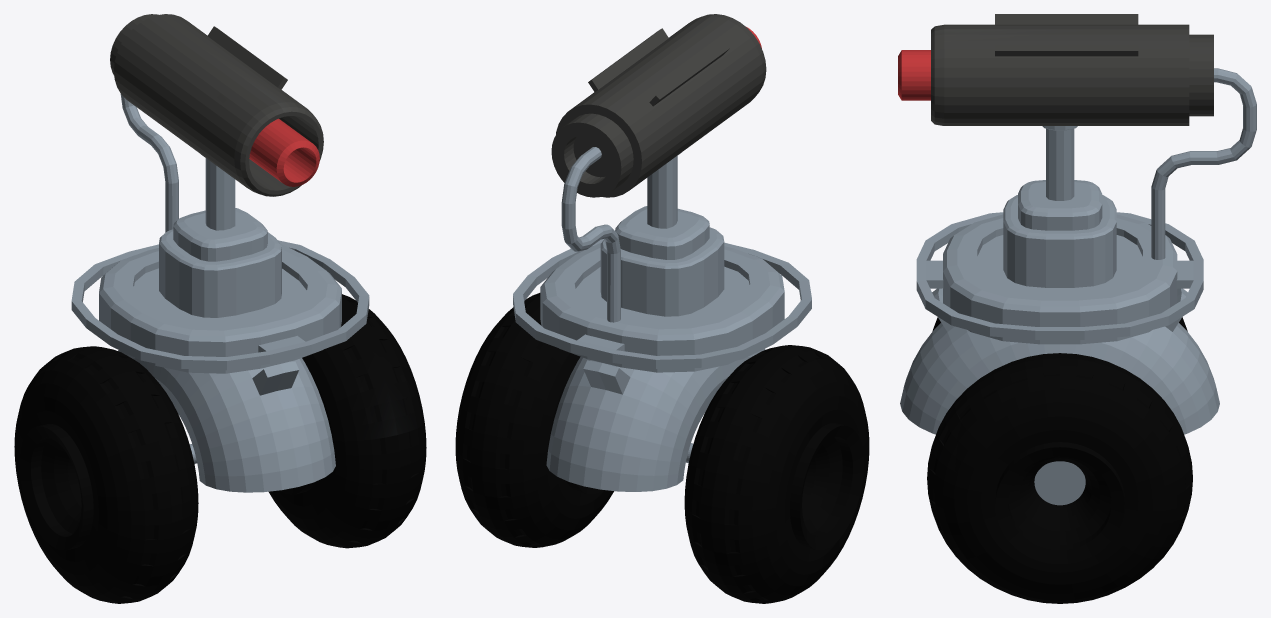
The model's file is Knucker.fbx.
The picture shows the model from 3 angles, left to right: view 1: azimuth 30°, elevation 25°; view 2: azimuth 150°, elevation 25°; view 3: azimuth 270°, elevation 25°; orthographic projection.
Visible parts, largest first — view 1: Rolling Gun.001, Rolling Gun tyre.001, Rolling Gun tyre.002; view 2: Rolling Gun.001, Rolling Gun tyre.001, Rolling Gun tyre.002; view 3: Rolling Gun.001, Rolling Gun tyre.002.
Part boxes in pixels (x1,y1,x2,y2): Rolling Gun.001: [71, 14, 369, 492]; Rolling Gun tyre.001: [14, 346, 198, 603]; Rolling Gun tyre.002: [268, 294, 426, 548]; Rolling Gun.001: [513, 14, 811, 491]; Rolling Gun tyre.001: [684, 345, 869, 603]; Rolling Gun tyre.002: [455, 293, 613, 547]; Rolling Gun.001: [898, 14, 1256, 505]; Rolling Gun tyre.002: [927, 353, 1192, 603].
Bounding box in the file's own units: 178 × 161 × 254.
